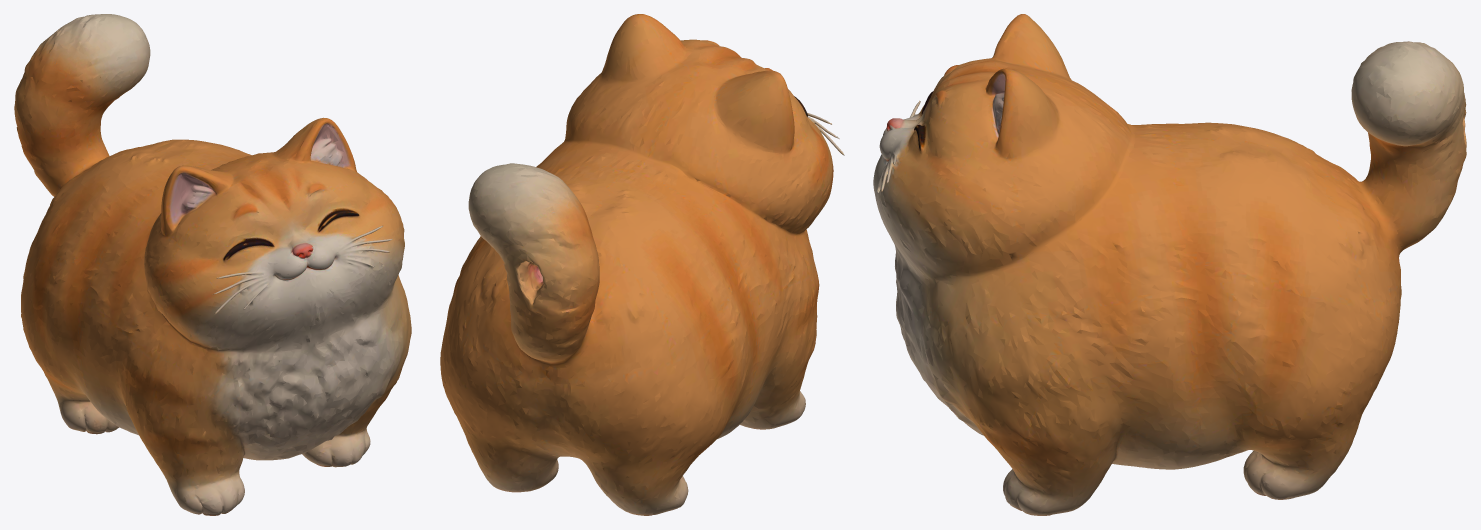
File: healsphere-cat-demo.glb
The picture shows the model from 3 angles, left to right: view 1: azimuth 30°, elevation 25°; view 2: azimuth 150°, elevation 25°; view 3: azimuth 270°, elevation 25°; orthographic projection. The views are drawn at different scales.
Parts seen in each view (by area): view 1: tripo_convert_43784a09-c8eb-4b61-b5b9-e457343ca009; view 2: tripo_convert_43784a09-c8eb-4b61-b5b9-e457343ca009; view 3: tripo_convert_43784a09-c8eb-4b61-b5b9-e457343ca009.
Boxes of the visible parts, box(x1,y1,x2,y2) form: tripo_convert_43784a09-c8eb-4b61-b5b9-e457343ca009: box(14, 14, 411, 515); tripo_convert_43784a09-c8eb-4b61-b5b9-e457343ca009: box(440, 14, 844, 515); tripo_convert_43784a09-c8eb-4b61-b5b9-e457343ca009: box(873, 14, 1466, 515).
Size of the model in its own units: 0.6217 by 0.7648 by 0.9818.
Materials: 1 (1 with a texture image).
